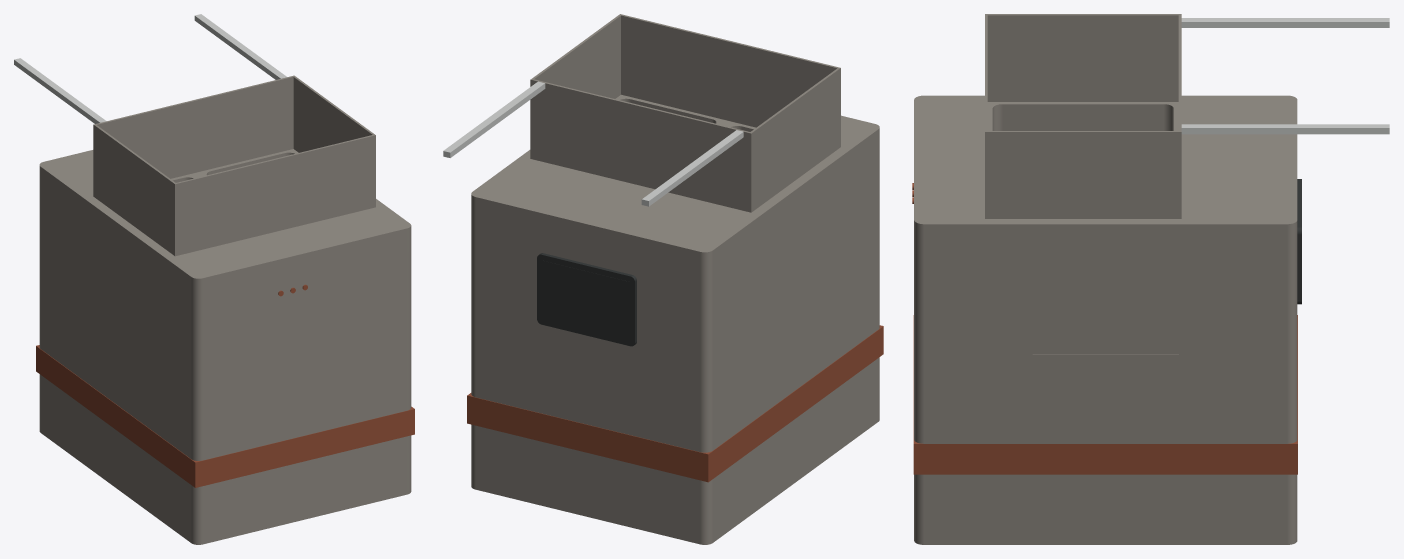
File: amr_two_tote_top_module_body.glb
3 views of the same model, side by side, from view 1: azimuth 30°, elevation 25°; view 2: azimuth 150°, elevation 25°; view 3: azimuth 270°, elevation 25° (orthographic). The views are drawn at different scales.
Parts seen in each view (by area): view 1: amr_two_tote_top_module_body_plastic, amr_two_tote_top_module_body_accent, amr_two_tote_top_module_body_steel; view 2: amr_two_tote_top_module_body_plastic, amr_two_tote_top_module_body_accent, amr_two_tote_top_module_body_graphite, amr_two_tote_top_module_body_steel; view 3: amr_two_tote_top_module_body_plastic, amr_two_tote_top_module_body_accent, amr_two_tote_top_module_body_steel, amr_two_tote_top_module_body_graphite.
Part boxes in pixels (x1,y1,x2,y2): amr_two_tote_top_module_body_plastic: (39, 75, 411, 544); amr_two_tote_top_module_body_accent: (36, 284, 414, 487); amr_two_tote_top_module_body_steel: (14, 14, 287, 123); amr_two_tote_top_module_body_plastic: (471, 14, 879, 544); amr_two_tote_top_module_body_accent: (467, 325, 883, 482); amr_two_tote_top_module_body_graphite: (537, 253, 636, 346); amr_two_tote_top_module_body_steel: (443, 81, 743, 206); amr_two_tote_top_module_body_plastic: (914, 14, 1297, 544); amr_two_tote_top_module_body_accent: (912, 183, 1297, 474); amr_two_tote_top_module_body_steel: (1181, 18, 1389, 134); amr_two_tote_top_module_body_graphite: (1297, 179, 1301, 304).
Bounding box in the file's own units: 0.5422 × 0.798 × 0.8465.
